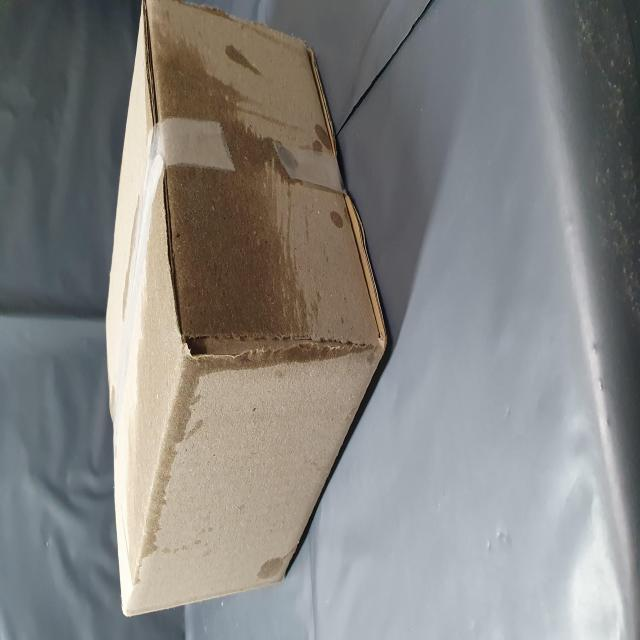wet: (53, 248, 336, 496)
